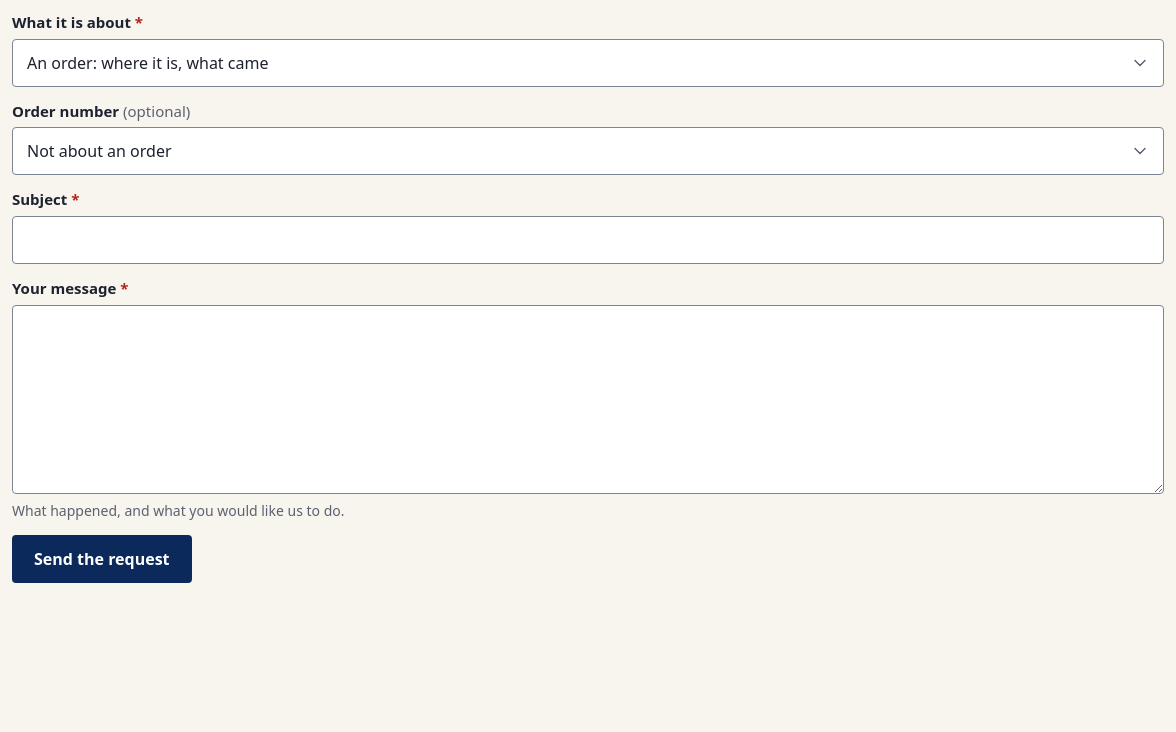
RequestForm › sends the request and says its number
Select "A payment or a refund" in the dropdown labelled "What it is about *" at (588,63), box [12, 39, 1164, 87]
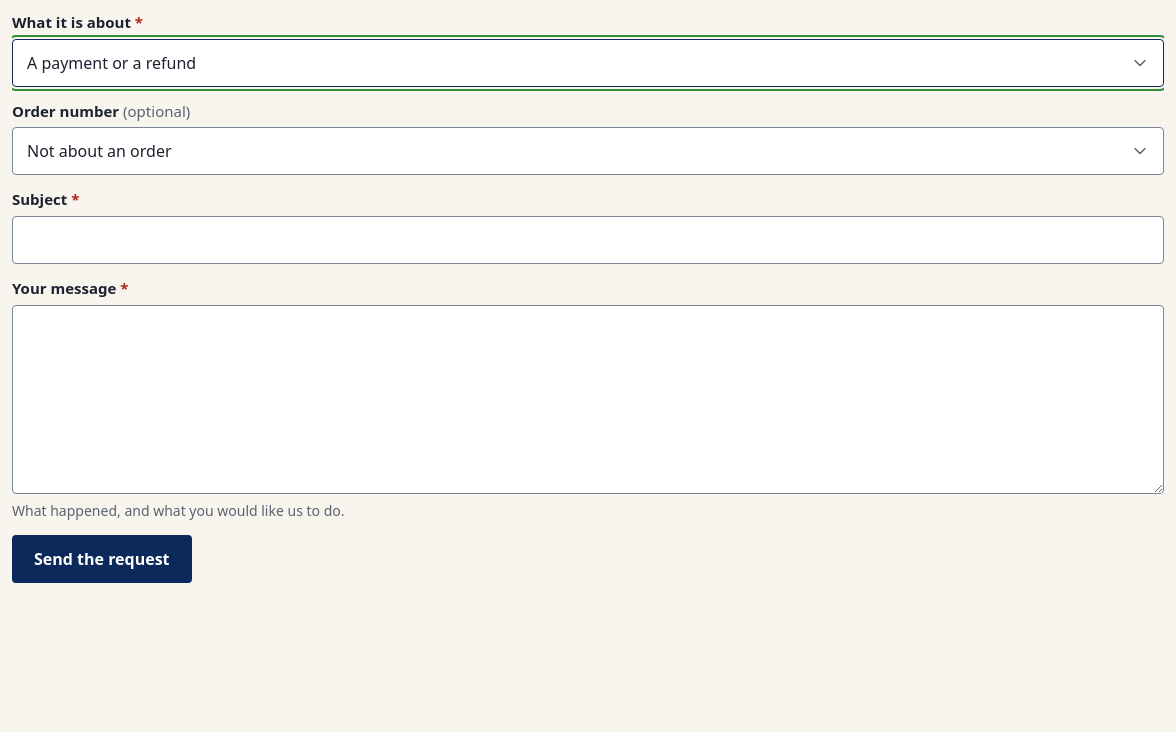
Select "EL-2026-000130" in the dropdown labelled "Order number (optional)" at (588,151), box [12, 127, 1164, 175]
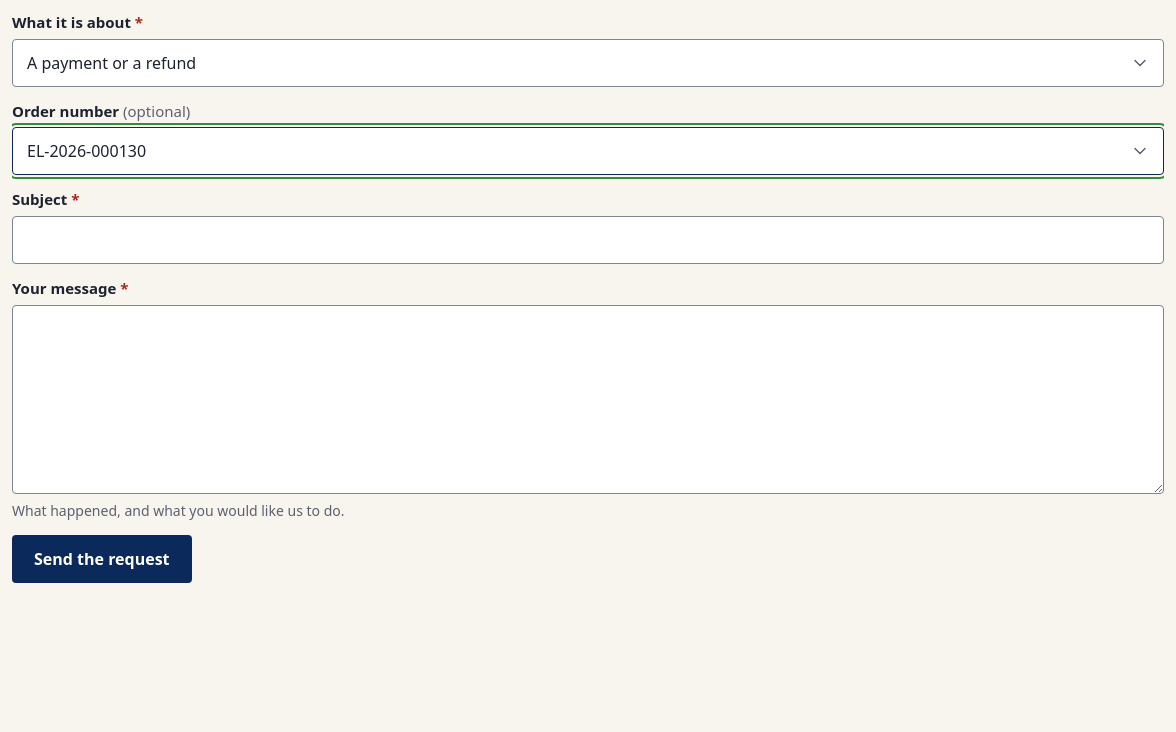
Type "Refund not received" into the field labelled "Subject *" at (588,240), box [12, 216, 1164, 264]
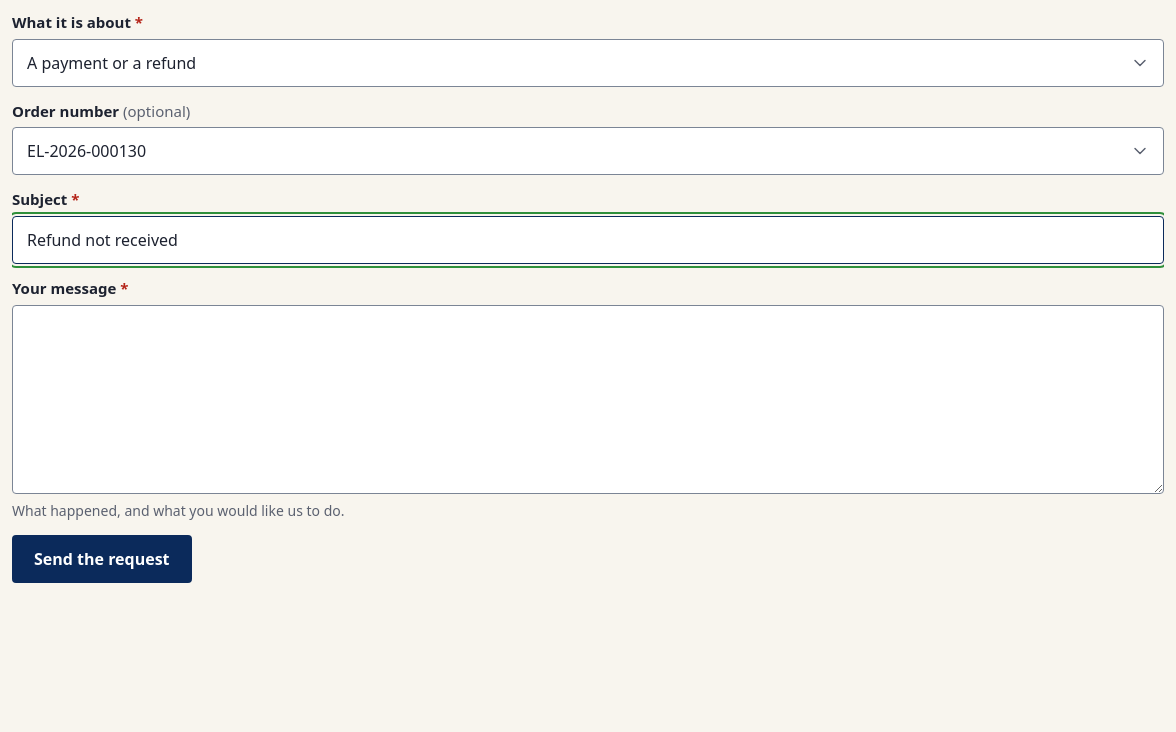
Type "I cancelled it a week ago." into the text box labelled "Your message *" at (588,399), box [12, 304, 1164, 494]
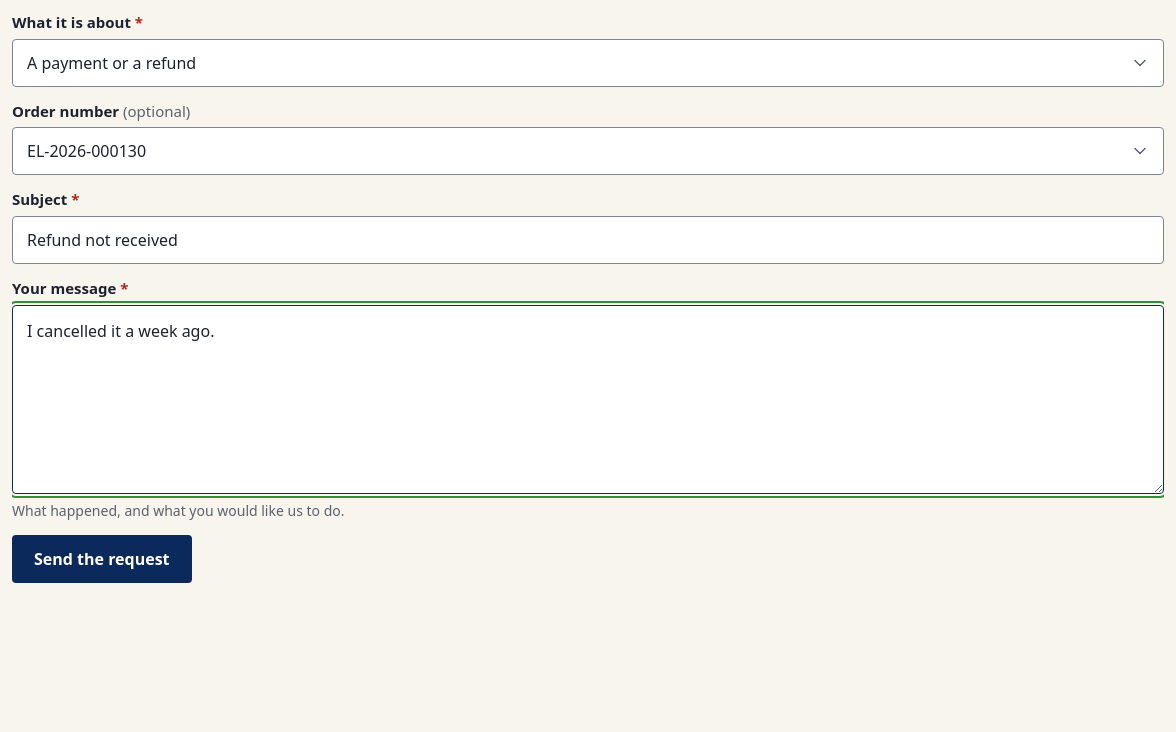
Click the button "Send the request" at (102,559), box [12, 535, 192, 583]
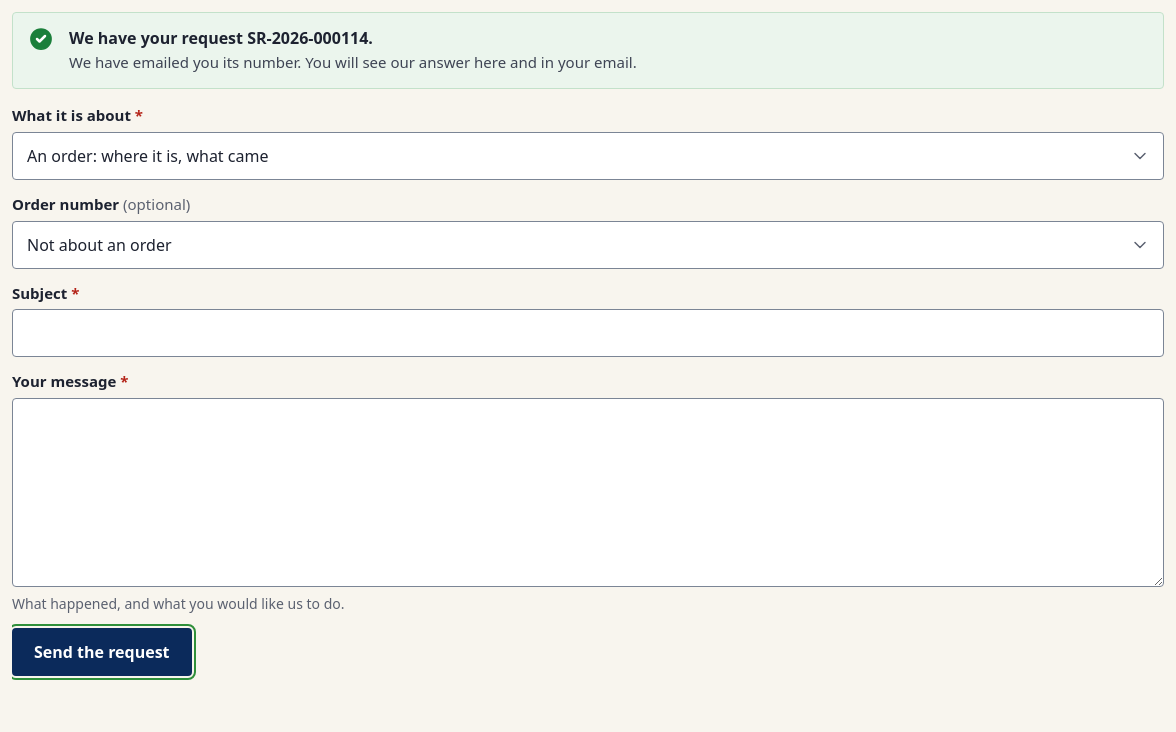
Expected: the text "We have your request SR-2026-000114." is shown, [69, 27, 373, 49]
Expected: the field labelled "Subject *" is empty, [12, 309, 1164, 357]
